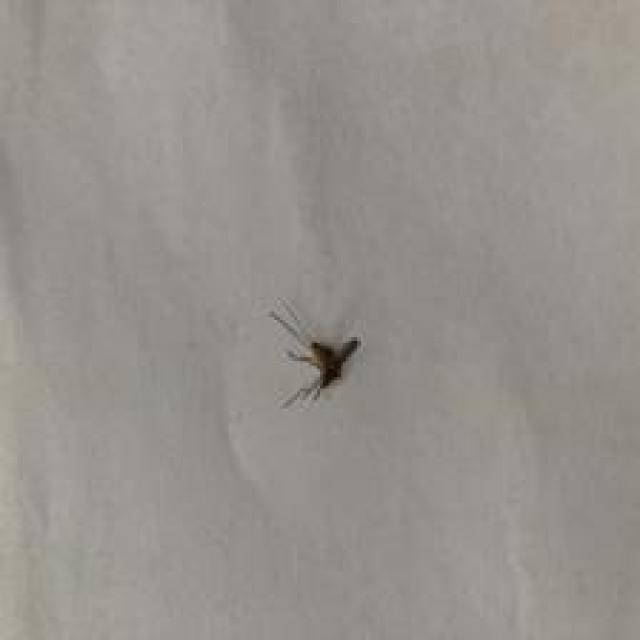Culex: (267, 297, 362, 409)
